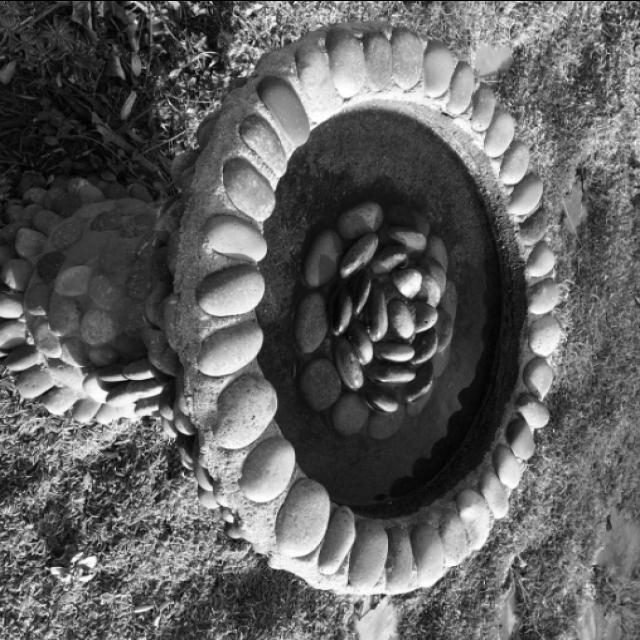Breeding Place: (263, 111, 524, 520)
